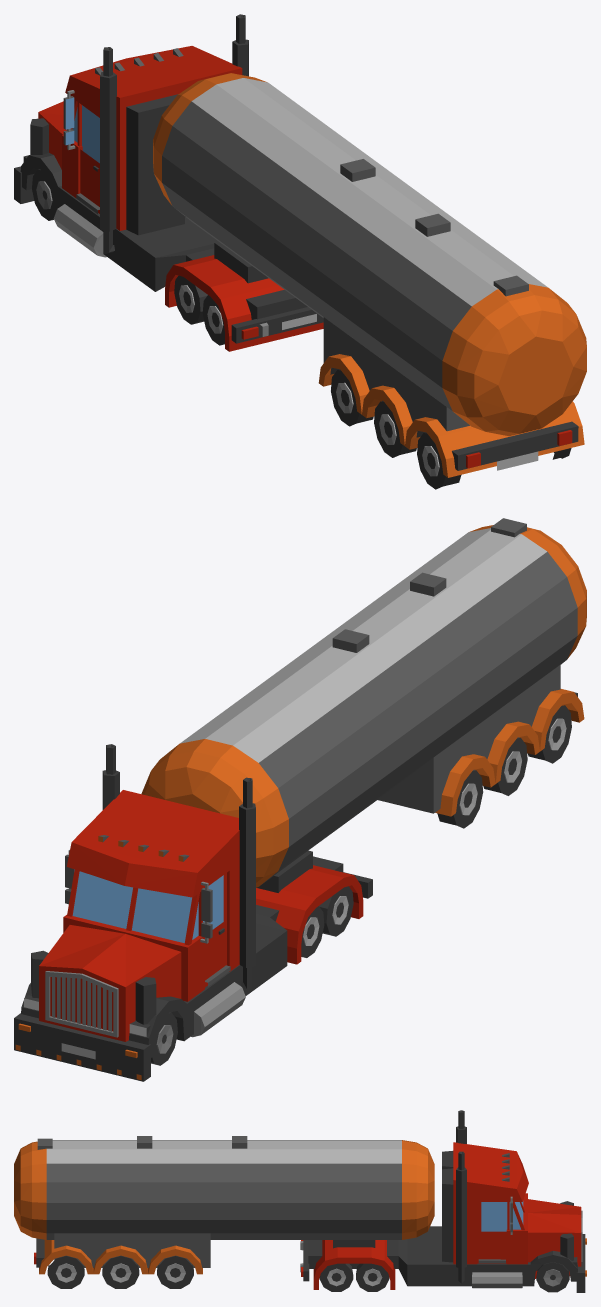
The model's file is truck.fbx.
3 views of the same model, one above another, from view 1: azimuth 30°, elevation 25°; view 2: azimuth 150°, elevation 25°; view 3: azimuth 270°, elevation 25° (orthographic). The views are drawn at different scales.
Visible parts, largest first — view 1: New_Game_Object; view 2: New_Game_Object; view 3: New_Game_Object.
Part boxes in pixels (bbox=[...]): New_Game_Object: bbox=[14, 14, 586, 489]; New_Game_Object: bbox=[14, 518, 586, 1081]; New_Game_Object: bbox=[14, 1110, 586, 1292].
Size of the model in its own units: 2.74 by 3.88 by 14.16.
